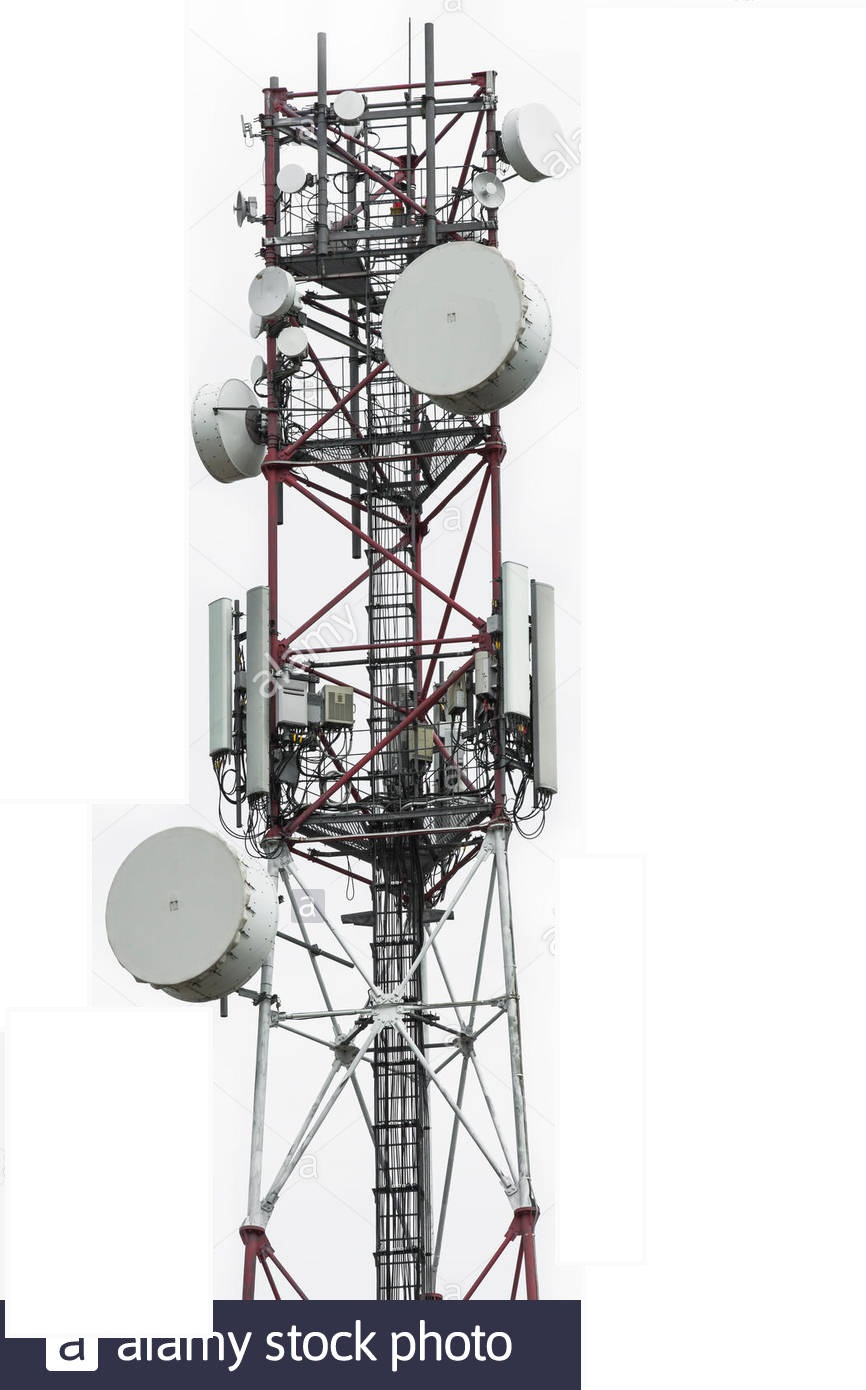a: (527, 578, 563, 804), (242, 582, 274, 806), (498, 558, 531, 723), (206, 597, 236, 761)
b: (106, 825, 278, 1007), (377, 246, 560, 417), (186, 373, 268, 483), (497, 100, 572, 184), (243, 259, 297, 321), (469, 170, 506, 211), (328, 89, 370, 125), (276, 326, 312, 358), (275, 164, 305, 192), (230, 189, 249, 229)
